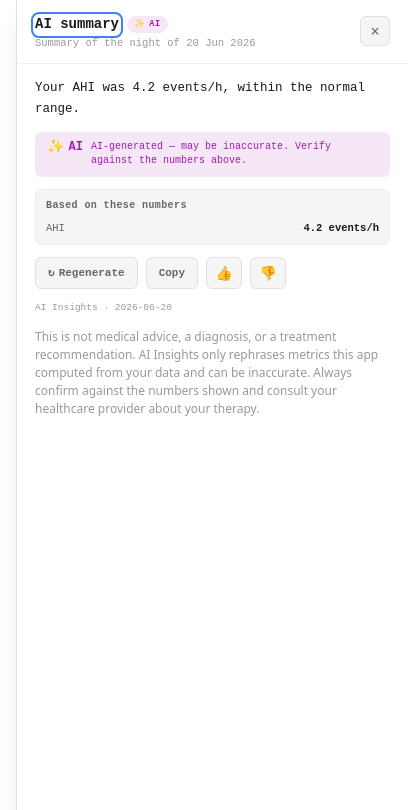
Test case: InsightDrawer copy carries the caveat › writes the narrative WITH the not-medical-advice caveat footer to the clipboard
The image size is (408, 810).
Click the button "Copy". click: (172, 273)
box: [146, 257, 198, 289]
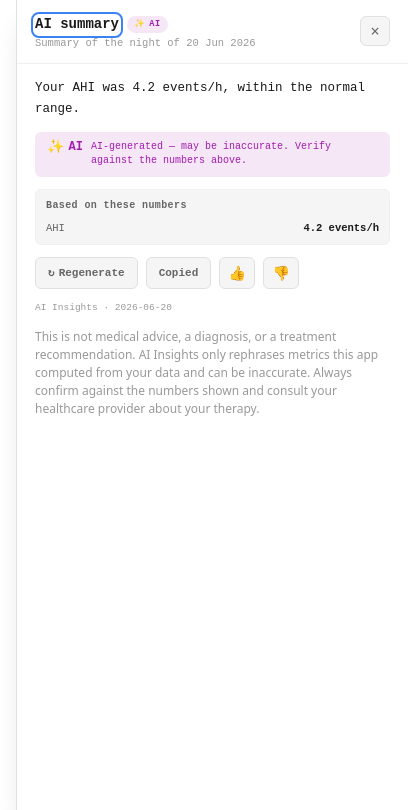
Expected: the button "Copied" is shown, [146, 257, 211, 289]
